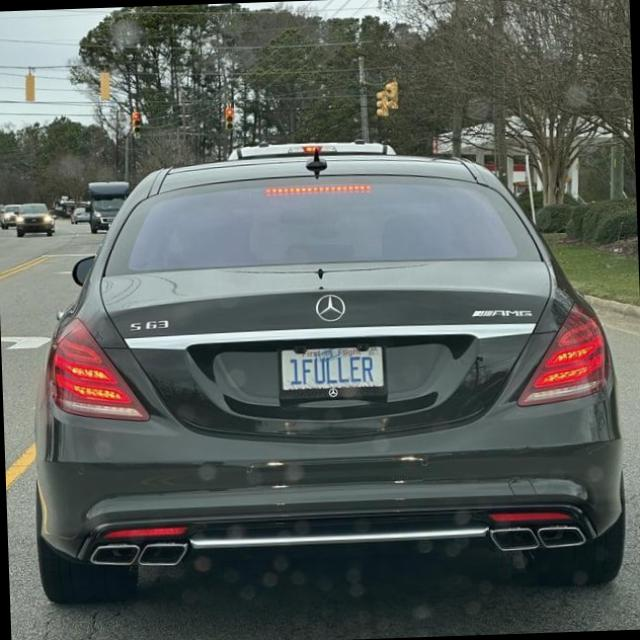LicensePlate: (275, 337, 388, 402)
